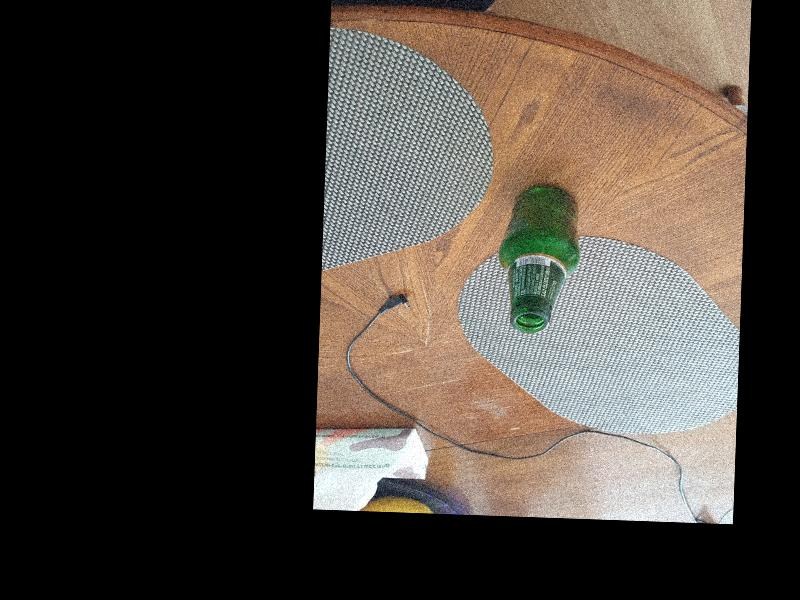Beer: (498, 183, 581, 336)
